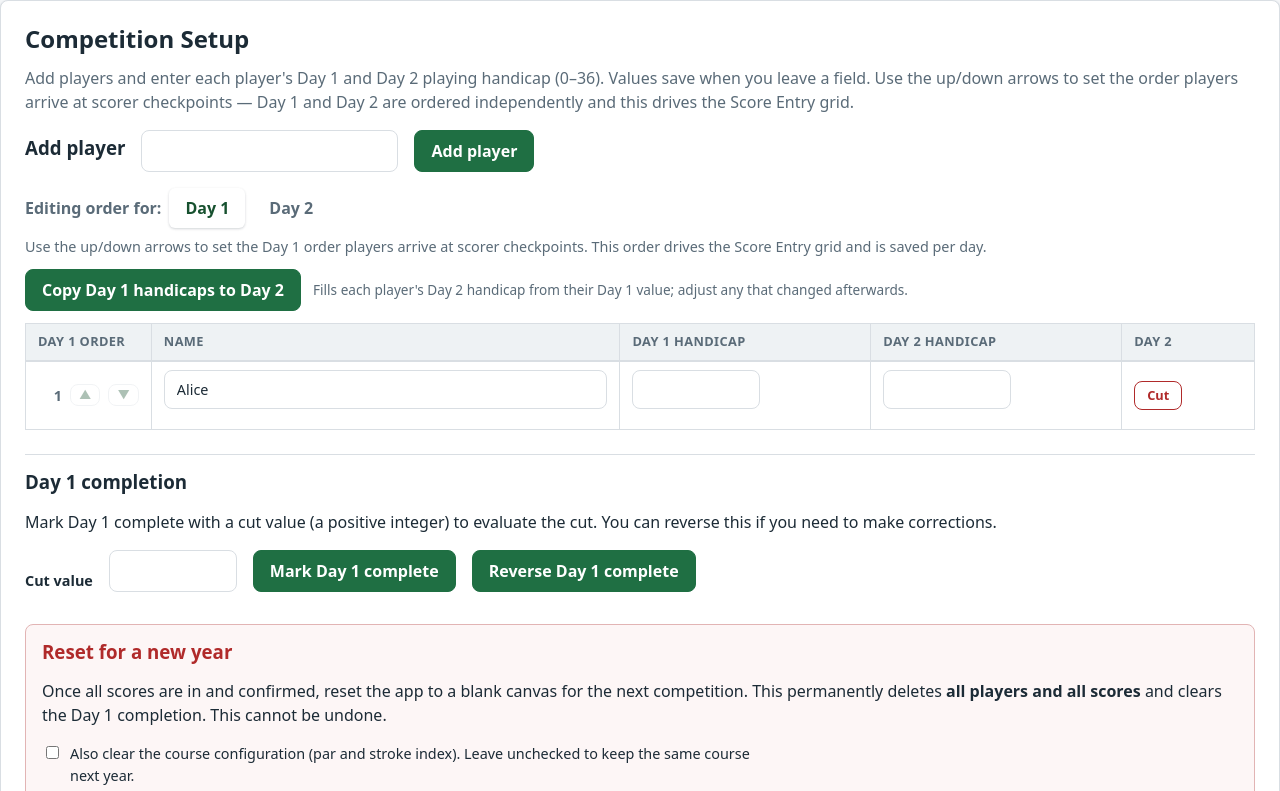
Test: CompetitionSetupScreen › stores Day 1 and Day 2 handicaps independently (2.7)
Type "8" into the number field named "Day 1 handicap for Alice". click: point(696, 389)
box: top-left (632, 370), bottom-right (760, 409)
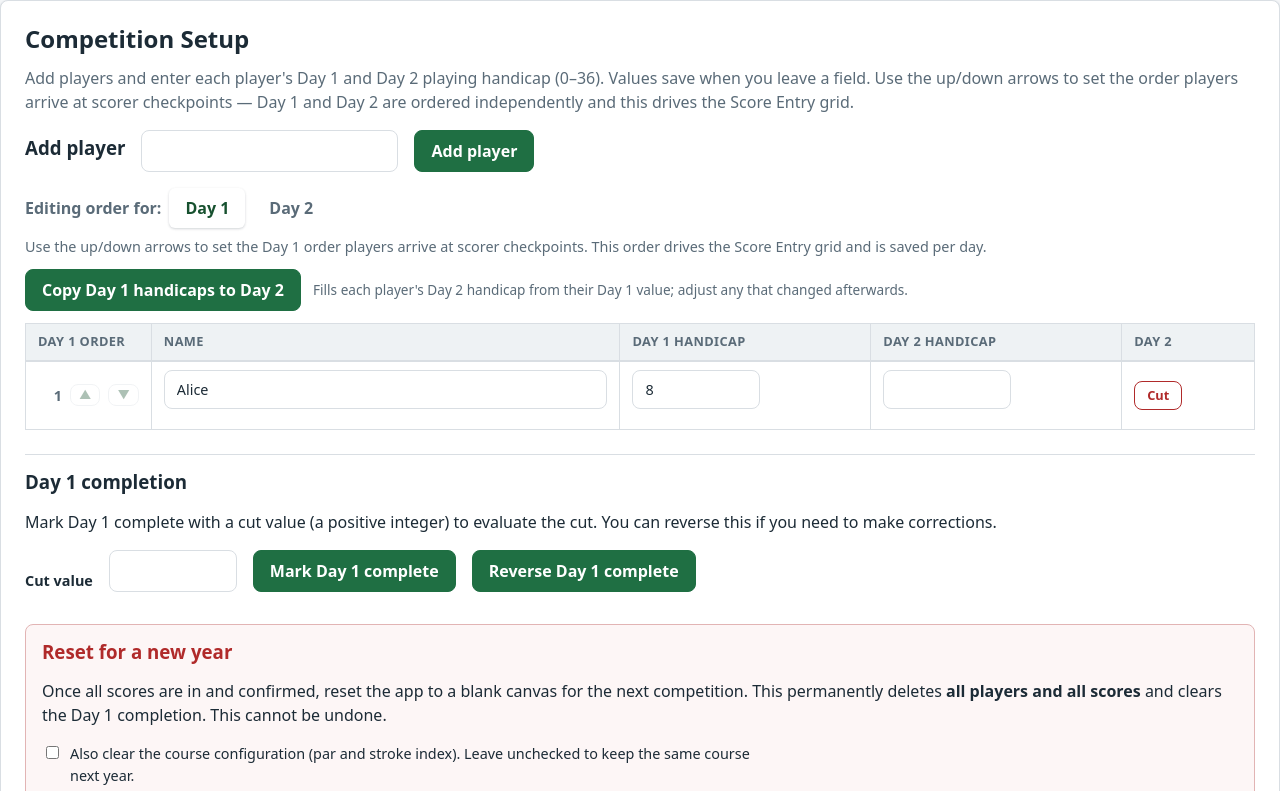
Leave the number field named "Day 1 handicap for Alice", box top-left (632, 370), bottom-right (760, 409)
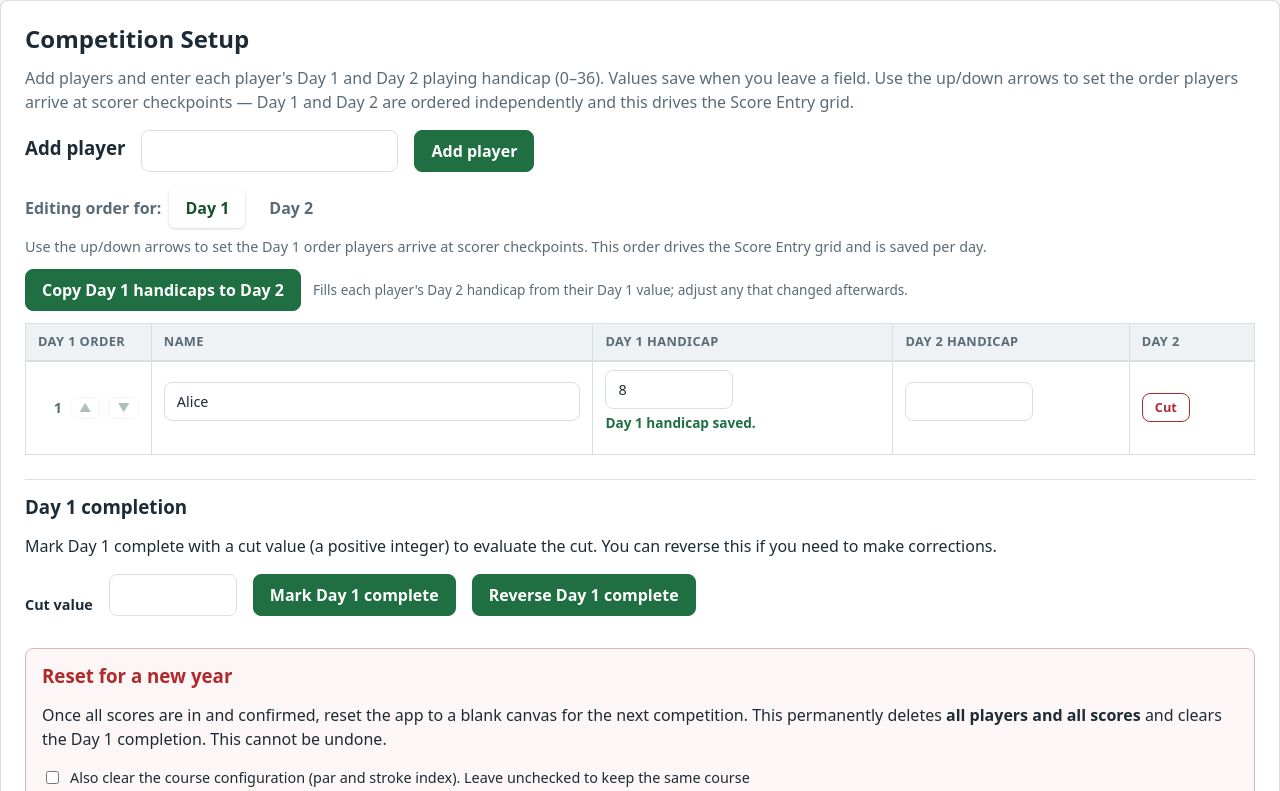
Now the text "Day 1 handicap saved." is shown, box top-left (606, 413), bottom-right (756, 432)
Type "20" into the number field named "Day 2 handicap for Alice". click: point(969, 402)
box: top-left (905, 382), bottom-right (1033, 421)
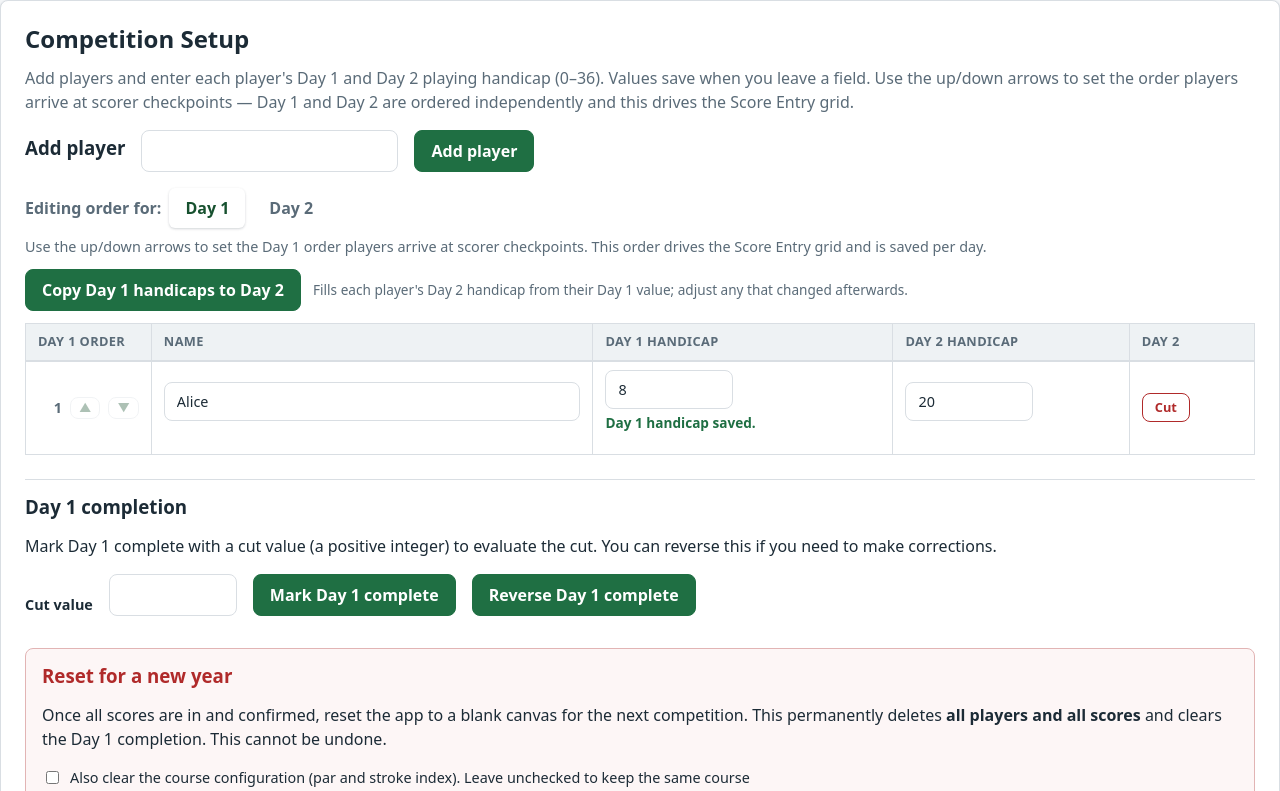
Leave the number field named "Day 2 handicap for Alice", box top-left (905, 382), bottom-right (1033, 421)
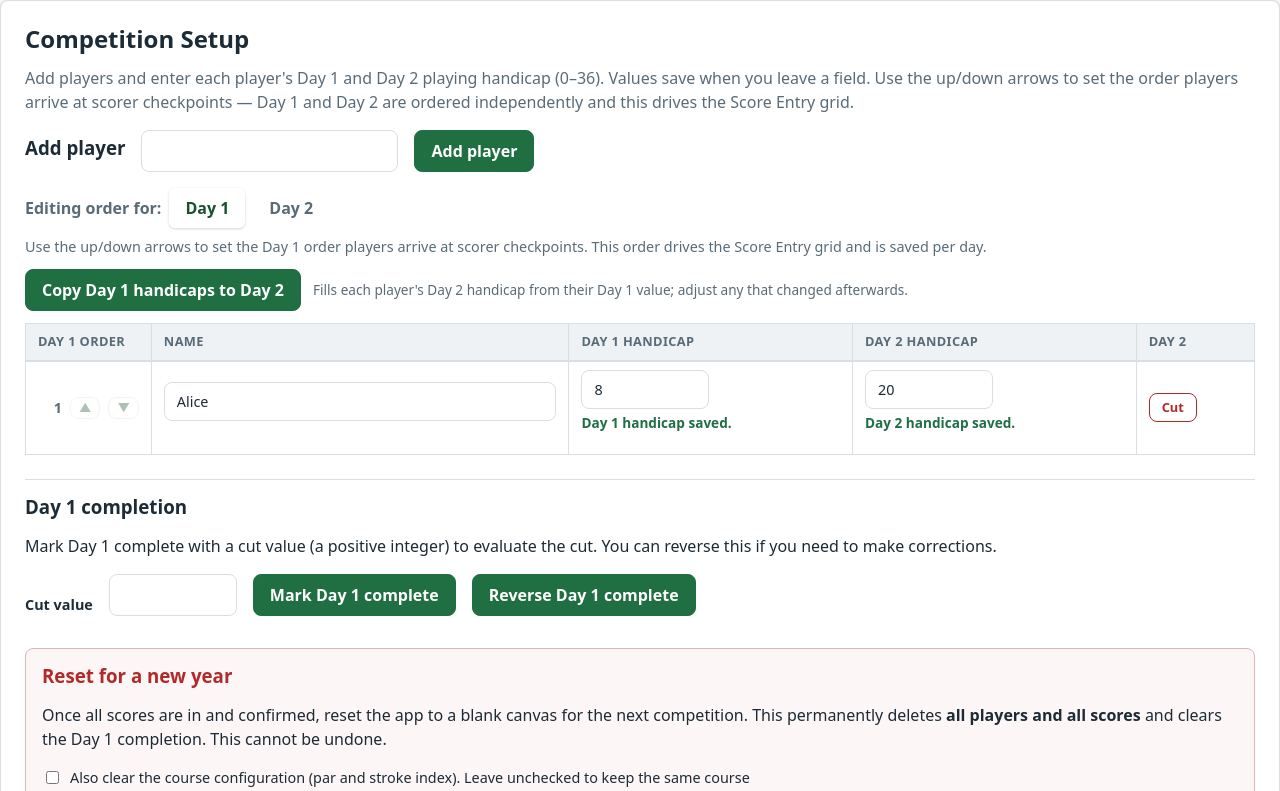
Now the text "Day 2 handicap saved." is shown, box top-left (865, 413), bottom-right (1015, 432)
